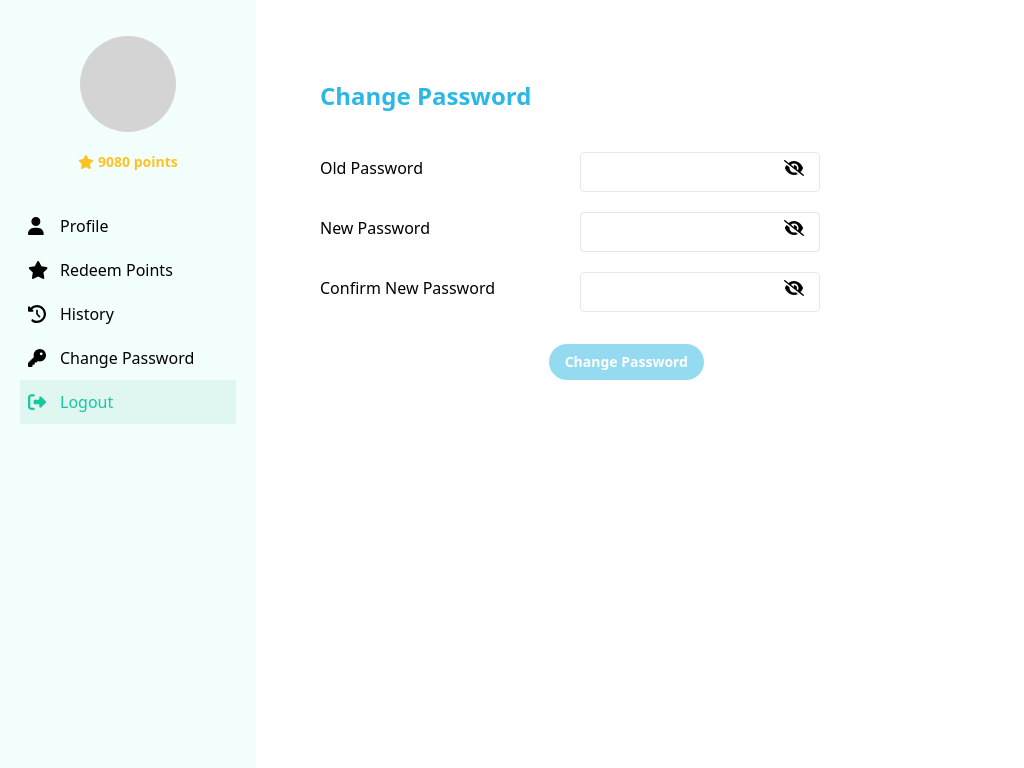
Test: button should be enabled after filling all fields
Type "oldpassword" into the password field labelled "Old Password" at (700,172), box [580,152,820,192]
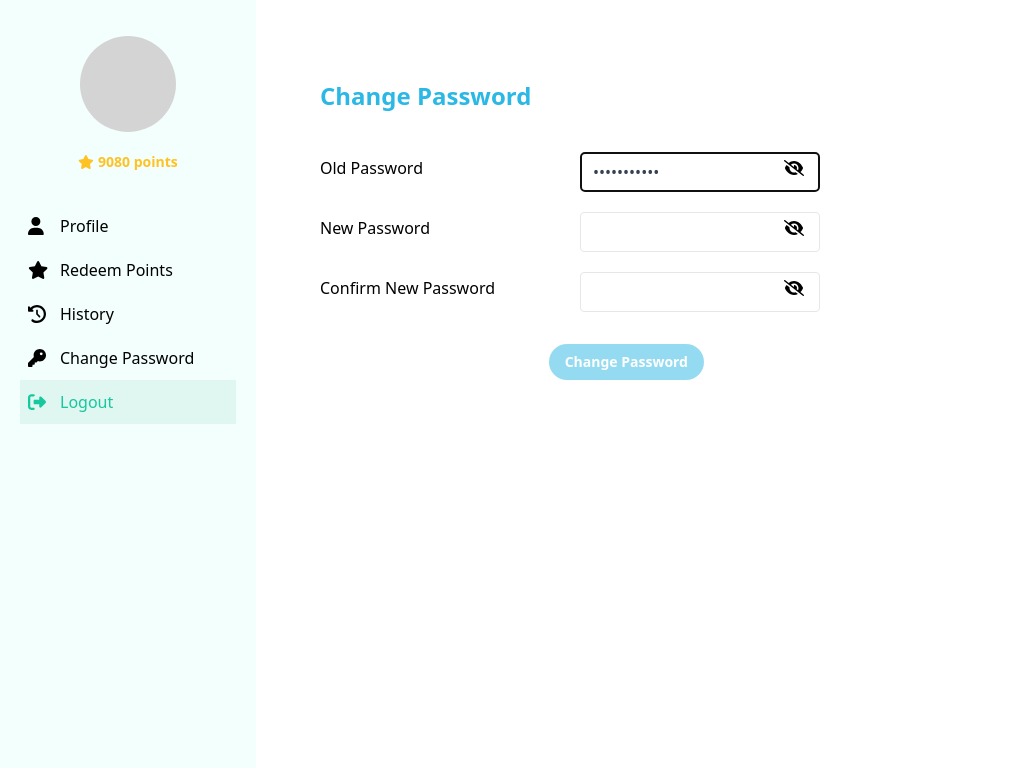
Type "newpassword" into the password field labelled "New Password" at (700,232), box [580,212,820,252]
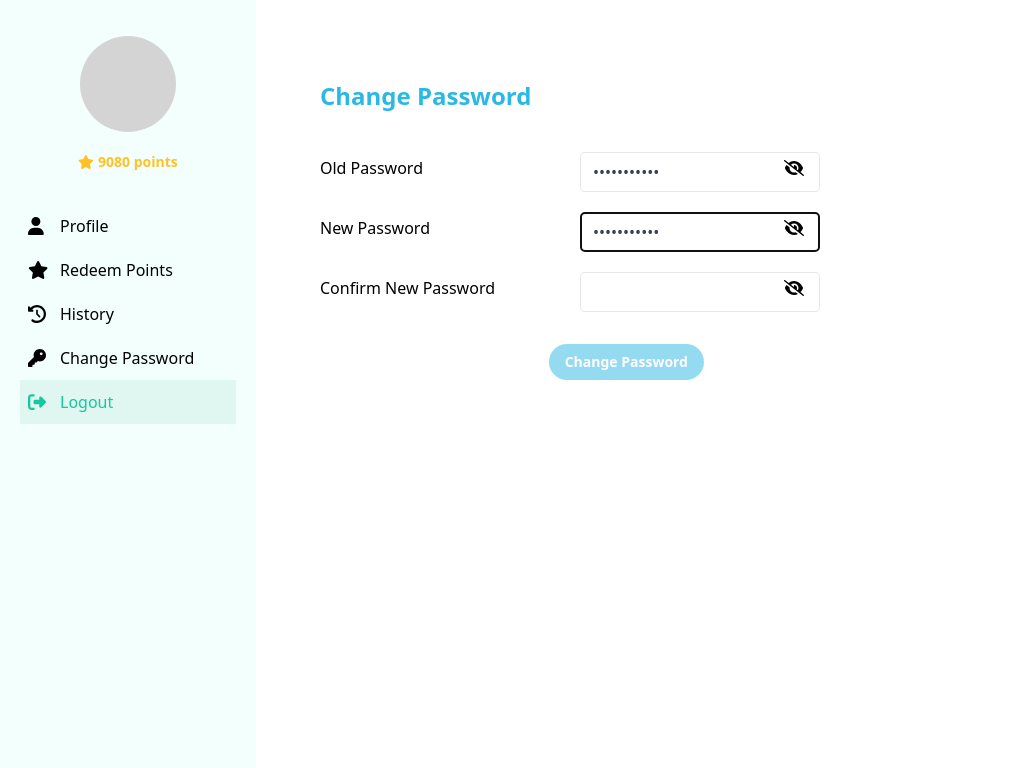
Type "newpassword" into the password field labelled "Confirm New Password" at (700,292), box [580,272,820,312]
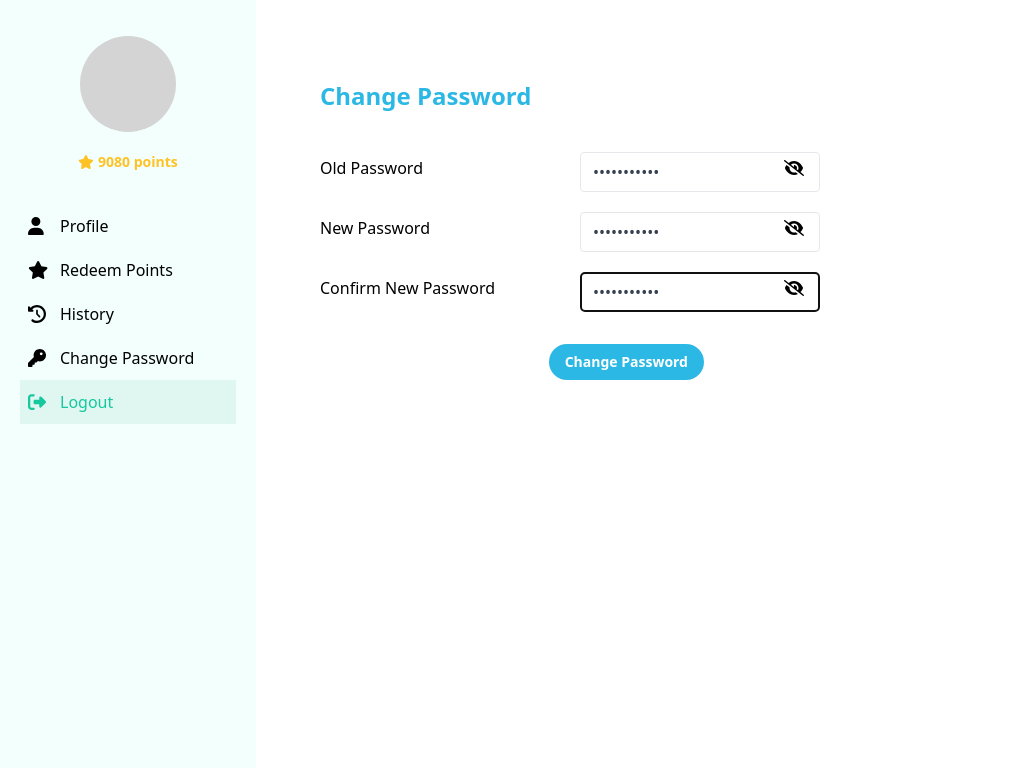
Check: the button "Change Password" is enabled, box [549,344,704,380]
